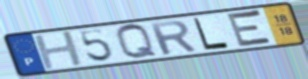5: (77, 28, 117, 64)
E: (225, 9, 276, 49)
H: (31, 29, 87, 72)
L: (191, 16, 232, 51)
Q: (114, 23, 161, 61)
R: (147, 19, 200, 57)
